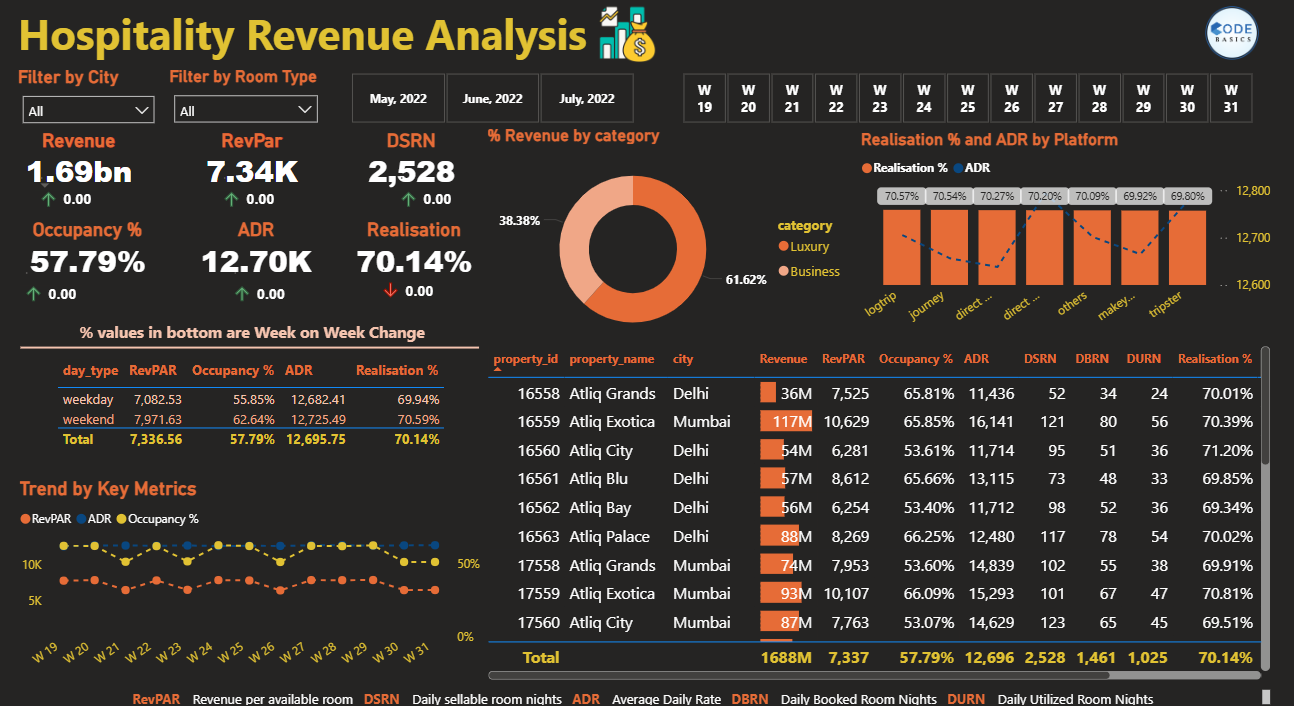

The dashboard page shown, as its layout file describes it:
{"tool":"powerbi","page":{"name":"Page 1","canvas":[1280,720],"ordinal":0},"visuals":[{"type":"tableEx","fields":{"Values":["dim_hotels.property_id","dim_hotels.property_name","dim_hotels.city","key_measures.Revenue","key_measures.RevPAR","key_measures.Occupancy %","key_measures.ADR","key_measures.DSRN","key_measures.DBRN","key_measures.DURN","key_measures.Realisation %","key_measures.Cancellation %"]},"box":[476.7,346.7,803.3,348.3],"z":0},{"type":"slicer","title":"Filter by City","fields":{"Values":["dim_hotels.city"]},"box":[0,68.3,153.3,63.3],"z":1000,"group":"g5"},{"type":"slicer","title":"Filter by Room Type","fields":{"Values":["dim_rooms.room_class"]},"box":[153.3,68.3,165,63.3],"z":2000,"group":"g5"},{"type":"slicer","fields":{"Values":["dim_date.mmm yy"]},"box":[318.3,68.3,335,63.3],"z":3000,"group":"g5"},{"type":"slicer","fields":{"Values":["dim_date.week no"]},"box":[653.3,68.3,626.7,63.3],"z":4000,"group":"g5"},{"type":"donutChart","title":"% Revenue by category","fields":{"Category":["dim_hotels.category"],"Y":["key_measures.Revenue"]},"box":[476.7,128.3,378.3,231.7],"z":5000},{"type":"lineStackedColumnComboChart","title":"Realisation % and ADR by Platform","fields":{"Category":["fact_bookings.booking_platform"],"Y":["key_measures.Realisation %"],"Y2":["key_measures.ADR"]},"box":[855,131.7,425,228.3],"z":6000},{"type":"lineChart","title":"Trend by Key Metrics","fields":{"Category":["dim_date.mmm yy.Variation.Date Hierarchy.Month","dim_date.week no"],"Y2":["key_measures.Occupancy %"],"Y":["key_measures.Rev Par","key_measures.ADR"]},"box":[1.7,485,476.7,210],"z":7000},{"type":"card","title":"Revenue","fields":{"Values":["key_measures.Revenue"]},"box":[8.3,132.4,117.8,61.8],"z":8000,"group":"g1"},{"type":"tableEx","fields":{"Values":["key_measures.Revpar WoW change %"]},"box":[16.7,163.3,81.7,58.3],"z":8000,"group":"g4"},{"type":"group","id":"g1","title":"Group 2","box":[8.3,131.7,468.3,65],"z":9000},{"type":"card","title":"RevPar","fields":{"Values":["key_measures.Rev Par"]},"box":[181.3,132.4,121.9,61.8],"z":9000,"group":"g1"},{"type":"card","title":"Occupancy %","fields":{"Values":["key_measures.Occupancy %"]},"box":[3.3,222,144.9,66.2],"z":9000,"group":"g2"},{"type":"tableEx","fields":{"Values":["key_measures.Revpar WoW change %"]},"box":[201.7,163.3,93.3,58.3],"z":10000,"group":"g4"},{"type":"card","title":"DSRN","fields":{"Values":["key_measures.DSRN"]},"box":[332.2,131.7,144.5,63.3],"z":11000,"group":"g1"},{"type":"tableEx","fields":{"Values":["key_measures.Revpar WoW change %"]},"box":[381.7,163.3,85,58.3],"z":11000,"group":"g4"},{"type":"group","id":"g2","title":"Group 1","box":[3.3,221.7,476.7,63.3],"z":12000},{"type":"card","title":"ADR","fields":{"Values":["key_measures.ADR"]},"box":[174.3,221.7,145.9,66.2],"z":12000,"group":"g2"},{"type":"card","title":"Realisation","fields":{"Values":["key_measures.Realisation %"]},"box":[333.7,222.3,146.9,66.2],"z":13000,"group":"g2"},{"type":"group","id":"g3","title":"Group 3","box":[0.9,255,479.1,60],"z":13000},{"type":"shape","box":[8.3,346.7,465,13.3],"z":15000},{"type":"tableEx","fields":{"Values":["dim_date.day_type","key_measures.RevPAR","key_measures.Occupancy %","key_measures.ADR","key_measures.Realisation %"]},"box":[40,360,403.3,111.7],"z":16000},{"type":"group","id":"g4","title":"Group 4","box":[16.7,163.3,450,58.3],"z":16001},{"type":"group","id":"g5","title":"Group 5","box":[0,68.3,1280,63.3],"z":16002},{"type":"textbox","box":[1.7,695,1278.3,25],"z":16003},{"type":"image","box":[1193.3,0,86.7,68.3],"z":16004},{"type":"textbox","box":[61.7,321.7,363.3,38.3],"z":16005},{"type":"textbox","box":[0,0,665,68.3],"z":16006},{"type":"image","box":[455,1.7,336.7,68.3],"z":16007},{"type":"tableEx","fields":{"Values":["key_measures.Occupancy WoW change %"]},"box":[0.9,258.3,141.7,55],"z":27000,"group":"g3"},{"type":"tableEx","fields":{"Values":["key_measures.ADR WoW change %"]},"box":[212.8,258.3,81.2,55.4],"z":28000,"group":"g3"},{"type":"tableEx","fields":{"Values":["key_measures.Realisation WoW change %"]},"box":[363.3,255,116.7,60],"z":29000,"group":"g3"}]}

Visuals, with their boxes on the page's 1280x720 design canvas (x1, y1, x2, y2). These are canvas units, not pixel positions in the 1294x706 screenshot, which may show the page scaled, cropped or inside an application window:
tableEx - dim_hotels.property_id x dim_hotels.property_name: box(477, 347, 1280, 695)
"Filter by City" slicer: box(0, 68, 153, 132)
"Filter by Room Type" slicer: box(153, 68, 318, 132)
slicer - dim_date.mmm yy: box(318, 68, 653, 132)
slicer - dim_date.week no: box(653, 68, 1280, 132)
"% Revenue by category" donutChart: box(477, 128, 855, 360)
"Realisation % and ADR by Platform" lineStackedColumnComboChart: box(855, 132, 1280, 360)
"Trend by Key Metrics" lineChart: box(2, 485, 478, 695)
"Revenue" card: box(8, 132, 126, 194)
tableEx - key_measures.Revpar WoW change %: box(17, 163, 98, 222)
"Group 2" group: box(8, 132, 477, 197)
"RevPar" card: box(181, 132, 303, 194)
"Occupancy %" card: box(3, 222, 148, 288)
tableEx - key_measures.Revpar WoW change %: box(202, 163, 295, 222)
"DSRN" card: box(332, 132, 477, 195)
tableEx - key_measures.Revpar WoW change %: box(382, 163, 467, 222)
"Group 1" group: box(3, 222, 480, 285)
"ADR" card: box(174, 222, 320, 288)
"Realisation" card: box(334, 222, 481, 288)
"Group 3" group: box(1, 255, 480, 315)
shape: box(8, 347, 473, 360)
tableEx - dim_date.day_type x key_measures.RevPAR: box(40, 360, 443, 472)
"Group 4" group: box(17, 163, 467, 222)
"Group 5" group: box(0, 68, 1280, 132)
textbox: box(2, 695, 1280, 720)
image: box(1193, 0, 1280, 68)
textbox: box(62, 322, 425, 360)
textbox: box(0, 0, 665, 68)
image: box(455, 2, 792, 70)
tableEx - key_measures.Occupancy WoW change %: box(1, 258, 143, 313)
tableEx - key_measures.ADR WoW change %: box(213, 258, 294, 314)
tableEx - key_measures.Realisation WoW change %: box(363, 255, 480, 315)
